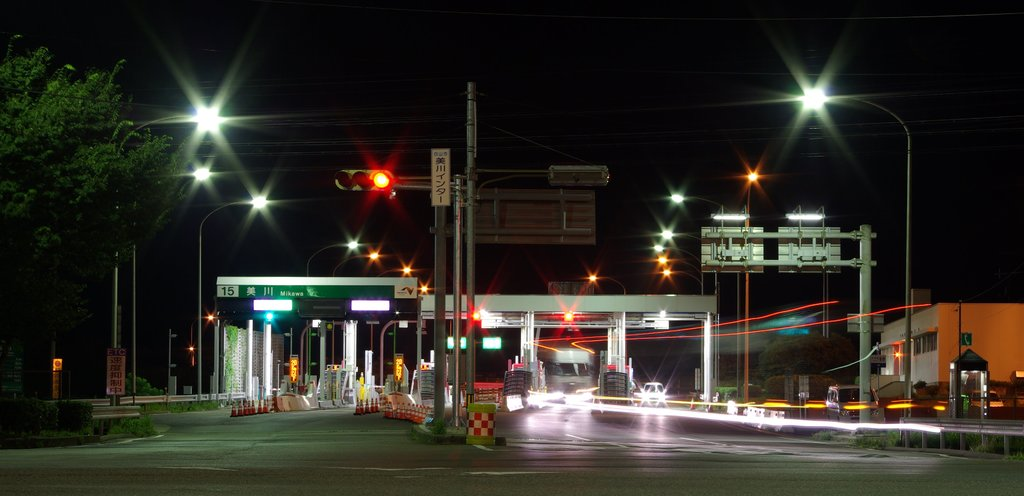red_light: (370, 170, 391, 189), (563, 311, 575, 322), (471, 310, 480, 322)
